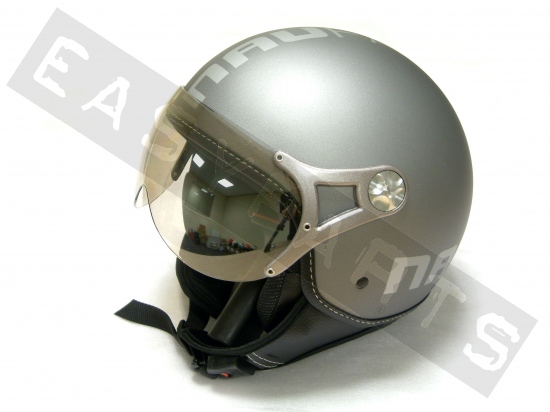helmet: (178, 16, 486, 253)
